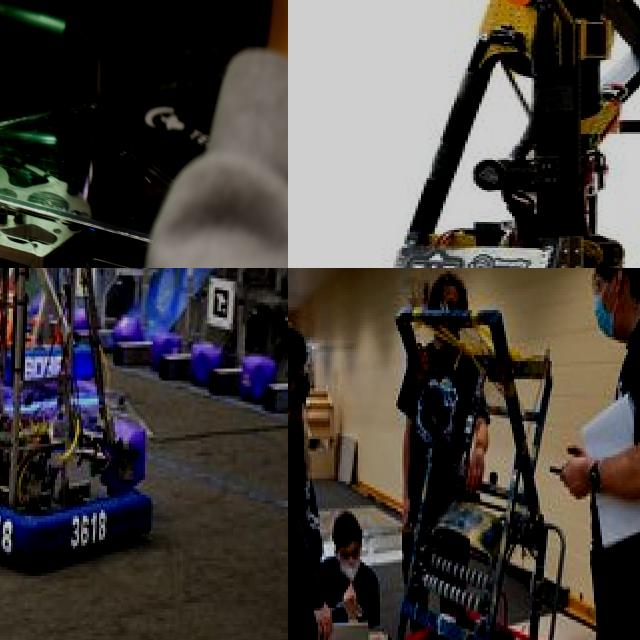FRC-Robots: (290, 0, 640, 268), (0, 0, 288, 268), (384, 268, 576, 640), (0, 268, 188, 600)
